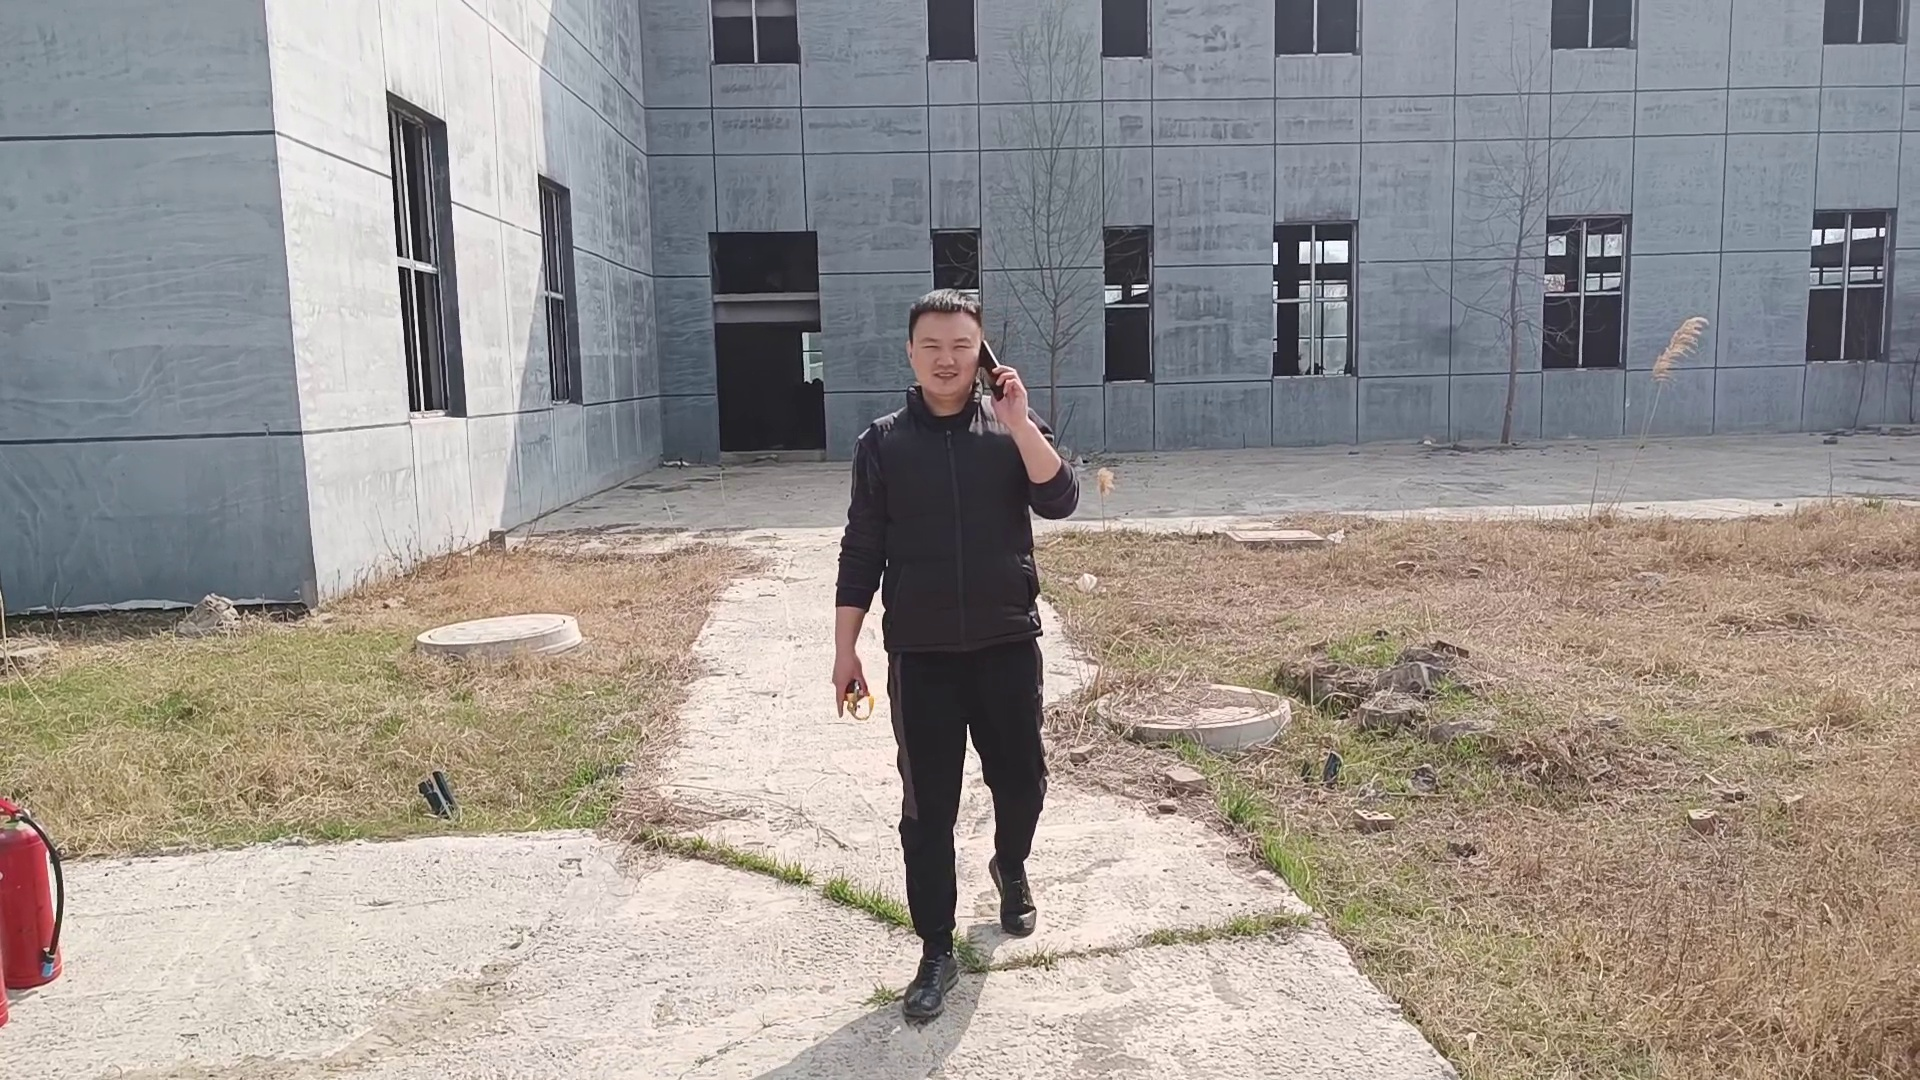phone: (905, 293, 1009, 409)
